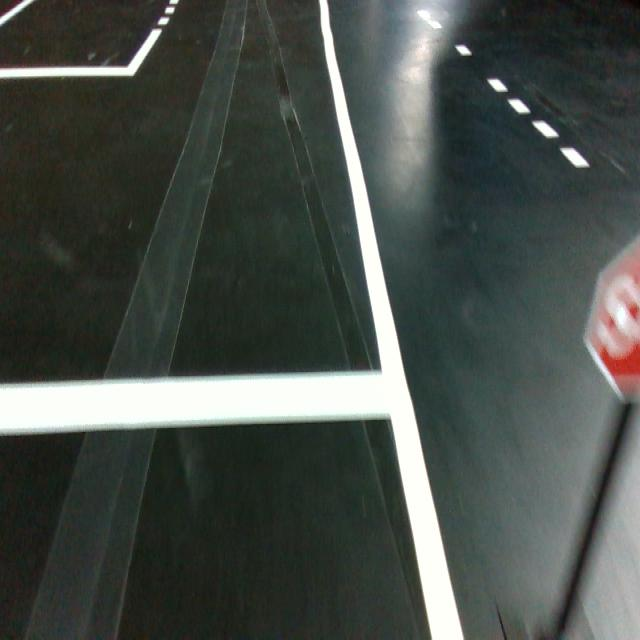stop-sign: (581, 226, 640, 406)
